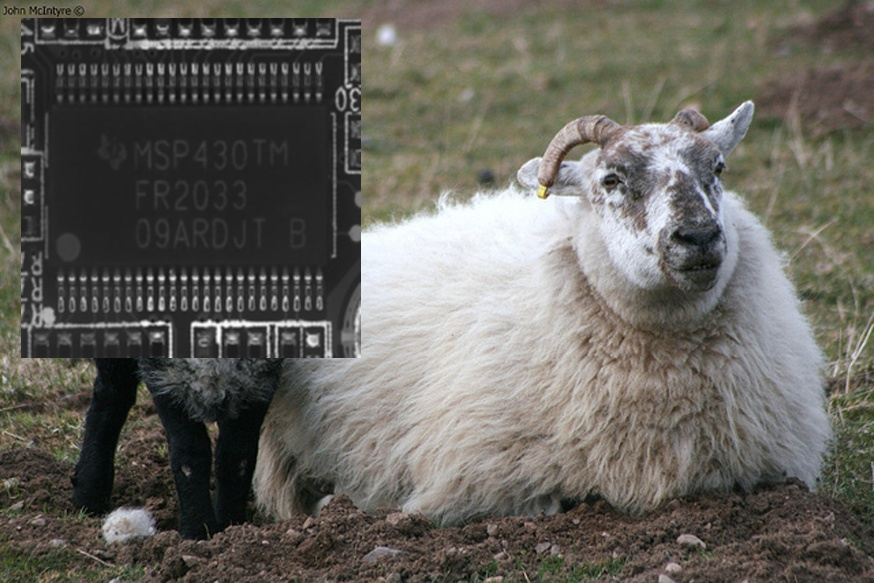PIN: (46, 52, 335, 119), (45, 252, 336, 317)
sheep: (255, 95, 830, 505), (72, 184, 300, 535)
